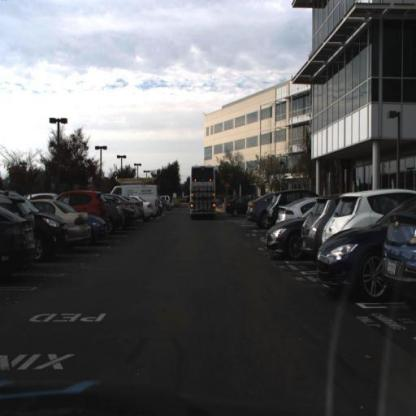car: (315, 216, 387, 307), (1, 194, 70, 261), (381, 198, 416, 306), (321, 190, 385, 249), (1, 206, 38, 292), (300, 195, 336, 255), (264, 216, 302, 259), (62, 203, 93, 245), (100, 194, 125, 236), (73, 188, 111, 215), (274, 199, 308, 224), (71, 206, 92, 246), (245, 194, 268, 228), (266, 189, 285, 230), (226, 192, 249, 220), (91, 211, 109, 244), (85, 190, 110, 213), (88, 211, 107, 240), (111, 198, 126, 232), (123, 205, 138, 229), (125, 202, 139, 227), (132, 198, 145, 223), (143, 198, 153, 225)
truck: (190, 160, 221, 220), (146, 179, 159, 223)
